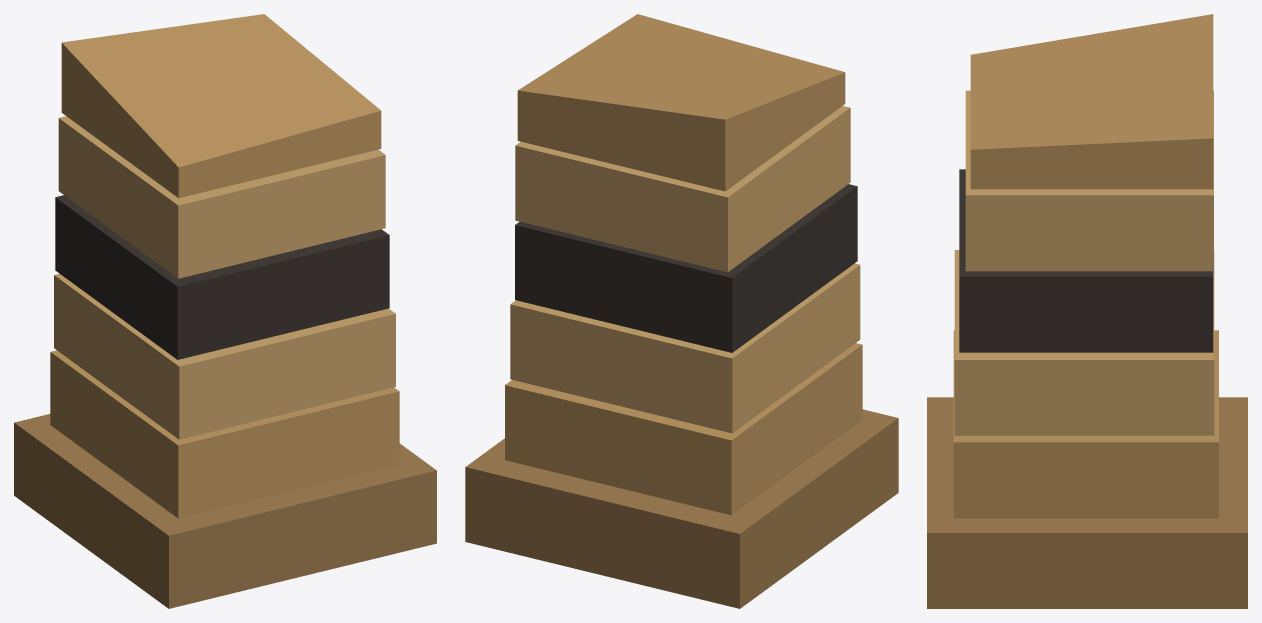
The model's file is desert_ruinwall_pier.glb.
The picture shows the model from 3 angles, left to right: view 1: azimuth 30°, elevation 25°; view 2: azimuth 150°, elevation 25°; view 3: azimuth 270°, elevation 25°; orthographic projection. The views are drawn at different scales.
Parts seen in each view (by area): view 1: desert_ruinwall_pier; view 2: desert_ruinwall_pier; view 3: desert_ruinwall_pier.
Part boxes in pixels (x1=…): desert_ruinwall_pier: x1=14, y1=14, x2=436, y2=608; desert_ruinwall_pier: x1=465, y1=14, x2=898, y2=608; desert_ruinwall_pier: x1=927, y1=14, x2=1247, y2=608.
Size of the model in its own units: 1.15 by 1.88 by 1.15.
